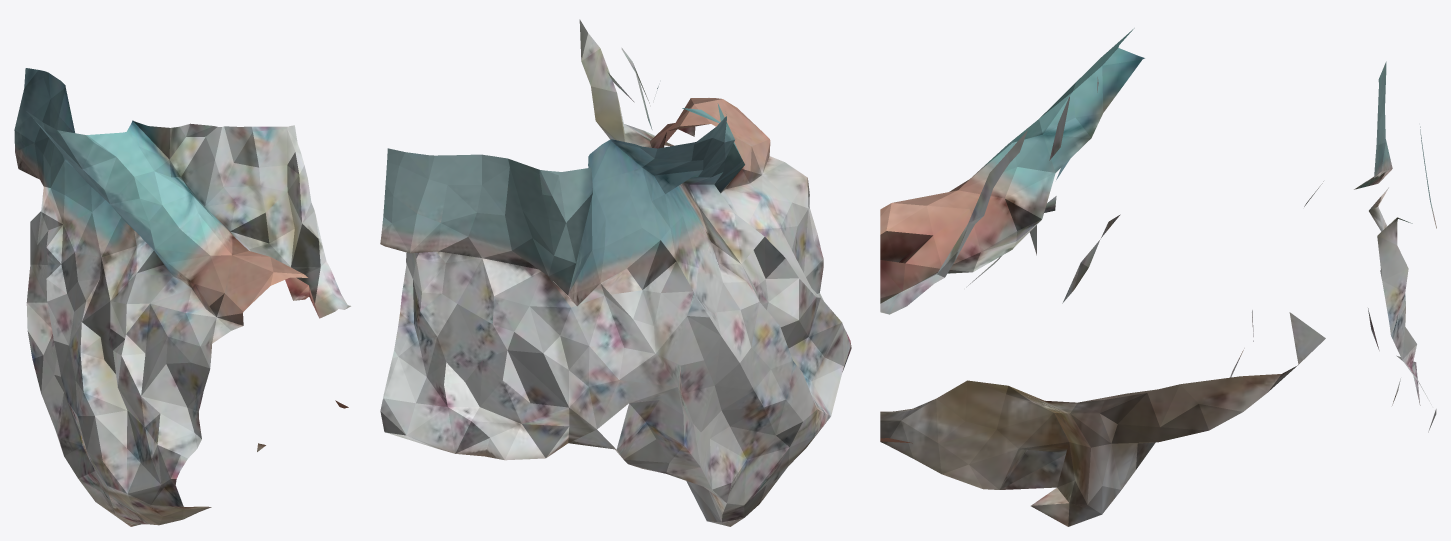
3 renders of one model, left to right at view 1: azimuth 30°, elevation 25°; view 2: azimuth 150°, elevation 25°; view 3: azimuth 270°, elevation 25°, orthographic. The views are drawn at different scales.
Bounding box in the file's own units: 205 × 369 × 381.
1 material, 1 textured.
